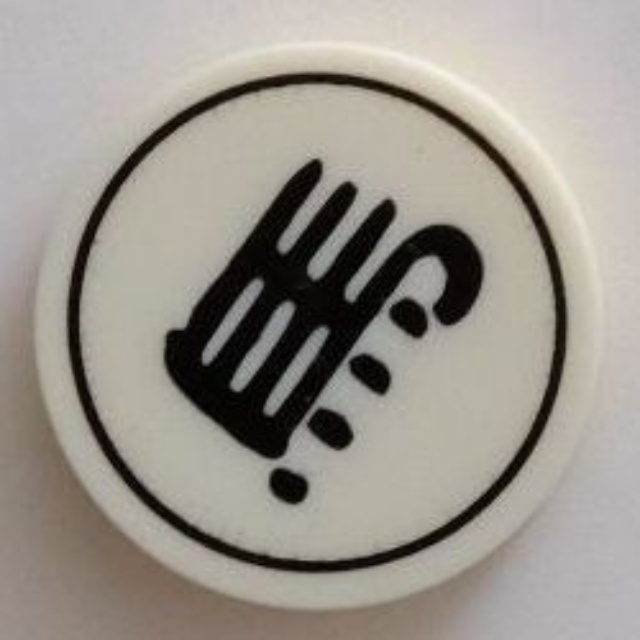black_ma: (33, 40, 615, 615)
